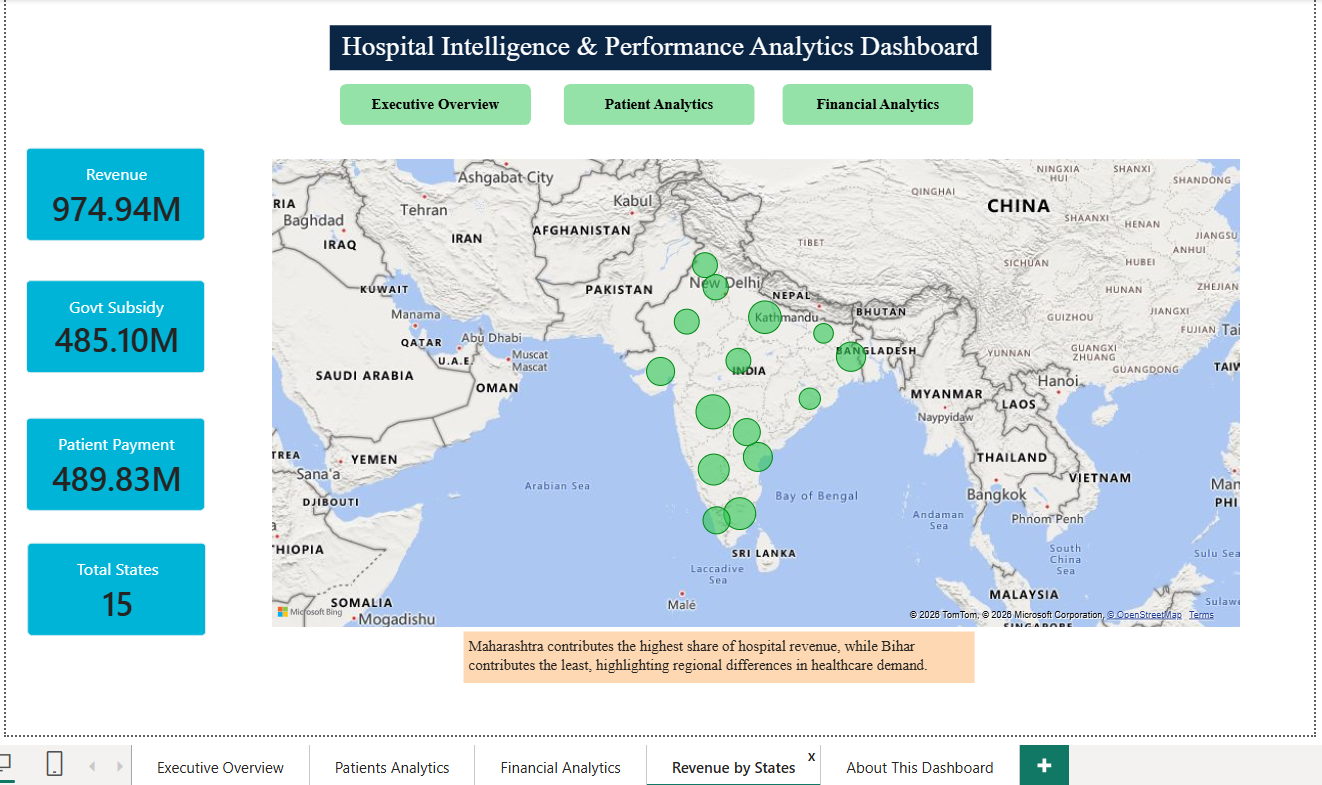

What the dashboard file says about the page in this screenshot:
{"tool":"powerbi","page":{"name":"Revenue by States","canvas":[1280,720],"ordinal":3},"visuals":[{"type":"textbox","box":[316.7,25.7,646.9,44],"z":0},{"type":"cardVisual","fields":{"Data":["Sum(public hospital_data.total_cost)"]},"box":[14.7,140.6,185.9,101.5],"z":1000},{"type":"cardVisual","fields":{"Data":["Sum(public hospital_data.govt_subsidy)"]},"box":[15,270,185,101.2],"z":2000},{"type":"cardVisual","fields":{"Data":["Sum(public hospital_data.patient_payment)"]},"box":[15,405,185,101.2],"z":3000},{"type":"actionButton","box":[326.5,83.2,187.1,40.4],"z":4000},{"type":"actionButton","box":[545.4,83.2,187.1,40.4],"z":5000},{"type":"actionButton","box":[759.4,83.2,187.1,40.4],"z":6000},{"type":"map","fields":{"Category":["public hospital_data.state"],"Size":["Sum(public hospital_data.total_cost)"]},"box":[255,151.2,956.2,467.5],"z":7000},{"type":"textbox","box":[447.5,618.8,500,50],"z":8000},{"type":"cardVisual","fields":{"Data":["public hospital_data.Total_States"]},"box":[16.2,527.5,185,101.2],"z":9000}]}

Visuals, with their boxes on the page's 1280x720 design canvas (x1, y1, x2, y2). These are canvas units, not pixel positions in the 1322x785 screenshot, which may show the page scaled, cropped or inside an application window:
textbox: select_region(317, 26, 964, 70)
cardVisual - Sum(public hospital_data.total_cost): select_region(15, 141, 201, 242)
cardVisual - Sum(public hospital_data.govt_subsidy): select_region(15, 270, 200, 371)
cardVisual - Sum(public hospital_data.patient_payment): select_region(15, 405, 200, 506)
actionButton: select_region(326, 83, 514, 124)
actionButton: select_region(545, 83, 732, 124)
actionButton: select_region(759, 83, 946, 124)
map - public hospital_data.state x Sum(public hospital_data.total_cost): select_region(255, 151, 1211, 619)
textbox: select_region(448, 619, 948, 669)
cardVisual - public hospital_data.Total_States: select_region(16, 528, 201, 629)
